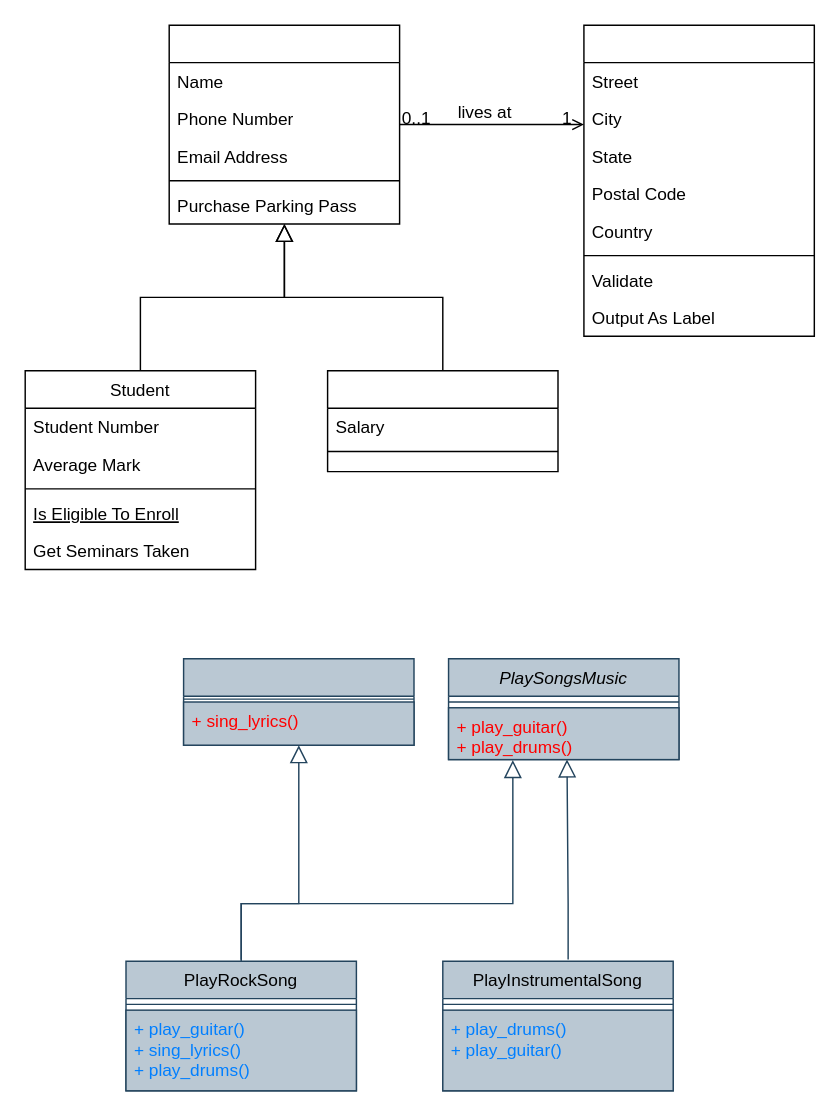
Image size: 840x1120. Some labels were removed from this diagram. The shapes that lost their labels are listed below. From the top down, each one's box as (x1, y1, x2, y2) in pixels, then its label:
(168, 24, 400, 224): Person
(582, 24, 814, 336): Address
(326, 369, 558, 472): Professor
(182, 657, 414, 745): PlaySongsLyrics
